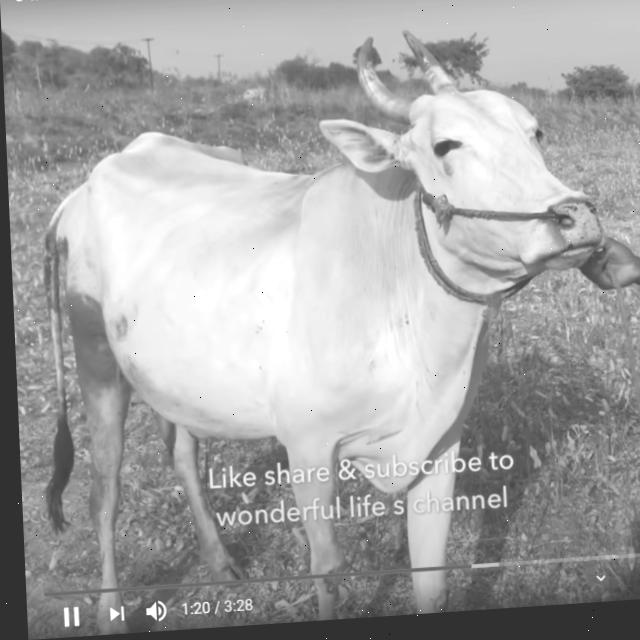Cow: (23, 15, 622, 638)
